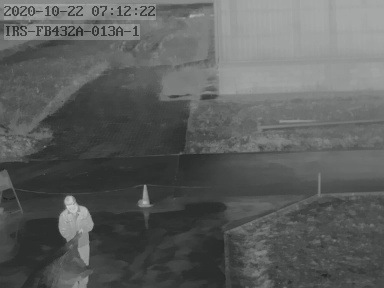person: (58, 195, 92, 265)
